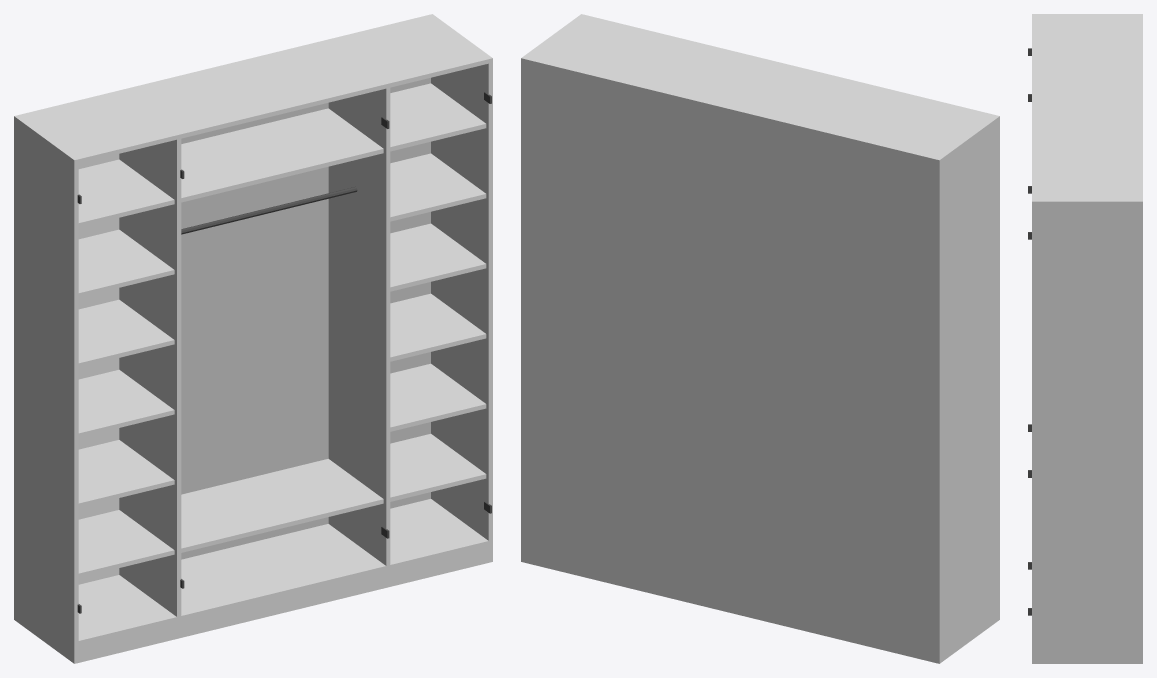
File: Wardrobe6_C1.fbx
3 views of the same model, side by side, from view 1: azimuth 30°, elevation 25°; view 2: azimuth 150°, elevation 25°; view 3: azimuth 270°, elevation 25° (orthographic). The views are drawn at different scales.
Visible parts, largest first — view 1: Wardrobe6_C1; view 2: Wardrobe6_C1; view 3: Wardrobe6_C1.
Part boxes in pixels (x1,y1,x2,y2): Wardrobe6_C1: [14, 14, 492, 663]; Wardrobe6_C1: [521, 14, 999, 663]; Wardrobe6_C1: [1028, 14, 1142, 663].
Bounding box in the file's own units: 200 × 230 × 51.79.
